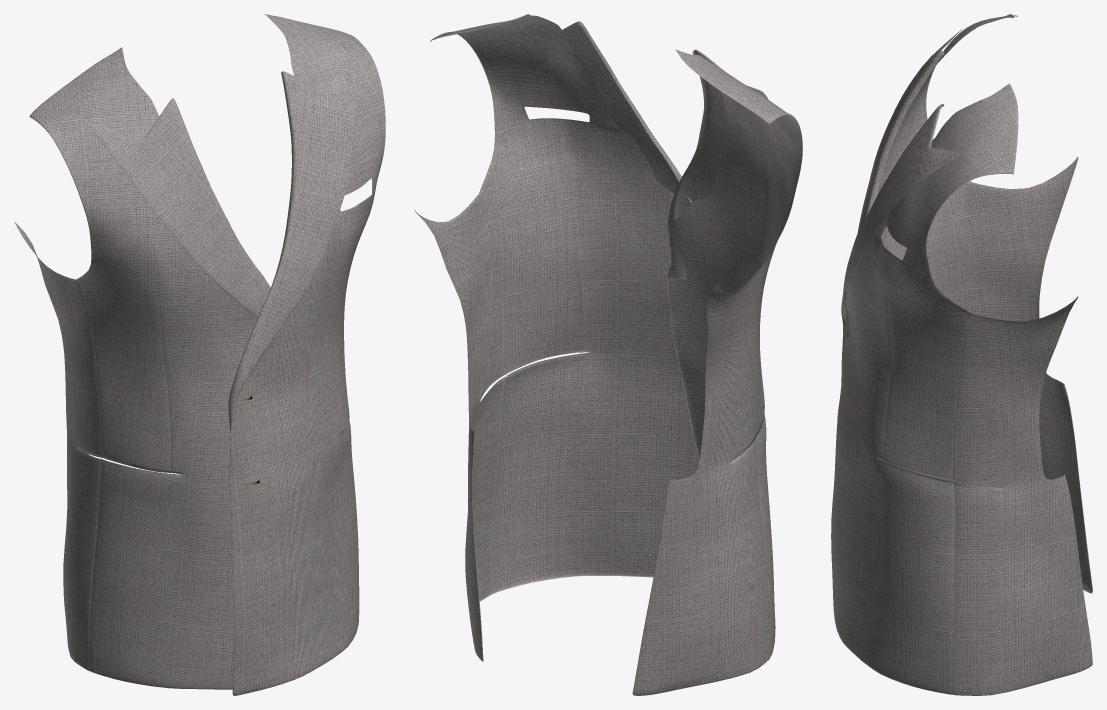
File: peak_double_breasted.glb
3 views of the same model, side by side, from view 1: azimuth 30°, elevation 25°; view 2: azimuth 150°, elevation 25°; view 3: azimuth 270°, elevation 25° (orthographic). The views are drawn at different scales.
Parts seen in each view (by area): view 1: peak_double_breasted; view 2: peak_double_breasted; view 3: peak_double_breasted.
Boxes of the visible parts, box(x1,y1,x2,y2) form: peak_double_breasted: box(14, 14, 385, 695); peak_double_breasted: box(414, 14, 802, 695); peak_double_breasted: box(831, 14, 1092, 695).
Size of the model in its own units: 0.0585 by 0.1017 by 0.0414.
Materials: 2 (2 with a texture image).
